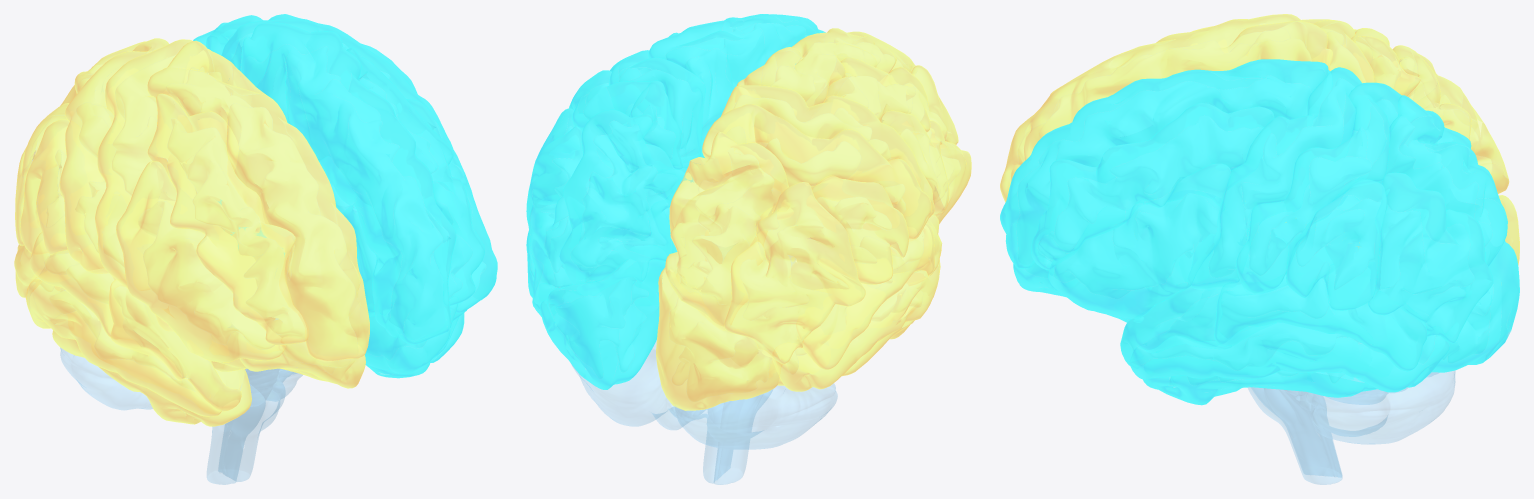
The model's file is nervis-hologram-brain.glb.
The picture shows the model from 3 angles, left to right: view 1: azimuth 30°, elevation 25°; view 2: azimuth 150°, elevation 25°; view 3: azimuth 270°, elevation 25°; orthographic projection. The views are drawn at different scales.
Visible parts, largest first — view 1: ROI_11_Prefrontal_R, ROI_01_Prefrontal_L, ROI_12_Motor_Premotor_R, ROI_16_Middle_Inferior_Temporal_R, ROI_15_Superior_Temporal_R, ROI_02_Motor_Premotor_L, ROI_13_Somatosensory_R, ROI_14_Posterior_Parietal_R, Brainstem_Context, ROI_09_Cingulate_L, Cerebellum_Context, ROI_03_Somatosensory_L (+2 smaller); view 2: ROI_14_Posterior_Parietal_R, ROI_04_Posterior_Parietal_L, ROI_12_Motor_Premotor_R, ROI_11_Prefrontal_R, ROI_13_Somatosensory_R, ROI_08_Occipital_Visual_L, Cerebellum_Context, ROI_18_Occipital_Visual_R, ROI_02_Motor_Premotor_L, ROI_16_Middle_Inferior_Temporal_R, ROI_15_Superior_Temporal_R, ROI_03_Somatosensory_L (+5 smaller); view 3: ROI_01_Prefrontal_L, ROI_04_Posterior_Parietal_L, ROI_02_Motor_Premotor_L, ROI_06_Middle_Inferior_Temporal_L, ROI_05_Superior_Temporal_L, ROI_03_Somatosensory_L, ROI_11_Prefrontal_R, Cerebellum_Context, ROI_12_Motor_Premotor_R, ROI_08_Occipital_Visual_L, ROI_14_Posterior_Parietal_R, Brainstem_Context (+4 smaller).
Part boxes in pixels (x1,y1,x2,y2): ROI_11_Prefrontal_R: [116, 75, 369, 388]; ROI_01_Prefrontal_L: [285, 50, 497, 374]; ROI_12_Motor_Premotor_R: [95, 39, 253, 290]; ROI_16_Middle_Inferior_Temporal_R: [25, 269, 251, 426]; ROI_15_Superior_Temporal_R: [14, 232, 241, 411]; ROI_02_Motor_Premotor_L: [221, 18, 440, 131]; ROI_13_Somatosensory_R: [59, 38, 168, 273]; ROI_14_Posterior_Parietal_R: [15, 41, 148, 256]; Brainstem_Context: [207, 369, 302, 484]; ROI_09_Cingulate_L: [219, 156, 397, 316]; Cerebellum_Context: [60, 348, 296, 409]; ROI_03_Somatosensory_L: [206, 14, 452, 147]; ROI_14_Posterior_Parietal_R: [665, 132, 909, 364]; ROI_04_Posterior_Parietal_L: [526, 108, 692, 304]; ROI_12_Motor_Premotor_R: [721, 47, 934, 217]; ROI_11_Prefrontal_R: [778, 28, 971, 223]; ROI_13_Somatosensory_R: [702, 104, 931, 241]; ROI_08_Occipital_Visual_L: [540, 245, 666, 389]; Cerebellum_Context: [571, 340, 837, 449]; ROI_18_Occipital_Visual_R: [656, 268, 782, 410]; ROI_02_Motor_Premotor_L: [609, 26, 746, 173]; ROI_16_Middle_Inferior_Temporal_R: [769, 260, 940, 391]; ROI_15_Superior_Temporal_R: [796, 214, 942, 369]; ROI_03_Somatosensory_L: [569, 70, 682, 170]; ROI_01_Prefrontal_L: [1000, 66, 1247, 322]; ROI_04_Posterior_Parietal_L: [1286, 95, 1507, 343]; ROI_02_Motor_Premotor_L: [1188, 59, 1372, 289]; ROI_06_Middle_Inferior_Temporal_L: [1129, 307, 1449, 405]; ROI_05_Superior_Temporal_L: [1120, 247, 1427, 371]; ROI_03_Somatosensory_L: [1236, 82, 1415, 294]; ROI_11_Prefrontal_R: [1000, 19, 1247, 202]; Cerebellum_Context: [1298, 371, 1455, 444]; ROI_12_Motor_Premotor_R: [1207, 14, 1374, 83]; ROI_08_Occipital_Visual_L: [1403, 241, 1519, 372]; ROI_14_Posterior_Parietal_R: [1373, 45, 1509, 193]; Brainstem_Context: [1248, 387, 1342, 484].
Size of the model in its own units: 2.33 by 2.58 by 2.79.
